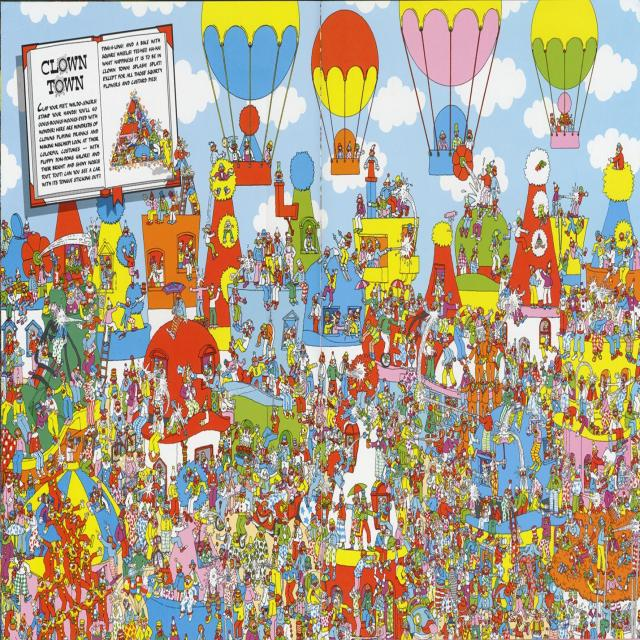waldo: (261, 607, 268, 619)
